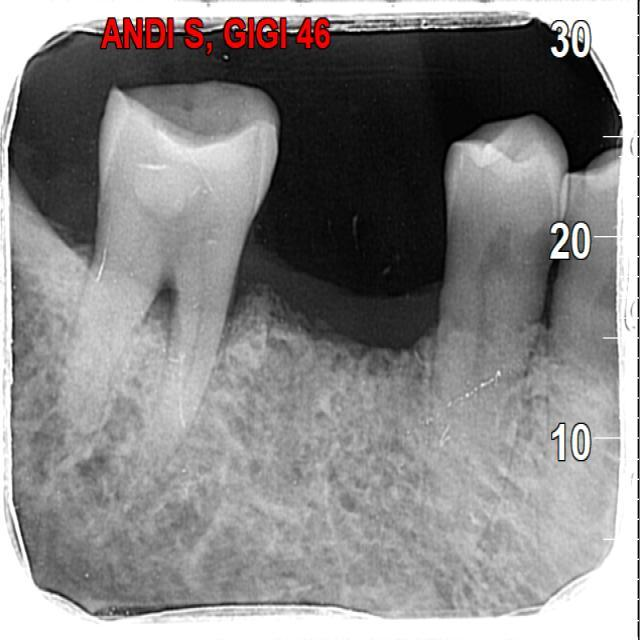individual-tooth-8tto: (43, 83, 293, 455), (427, 115, 570, 544)
